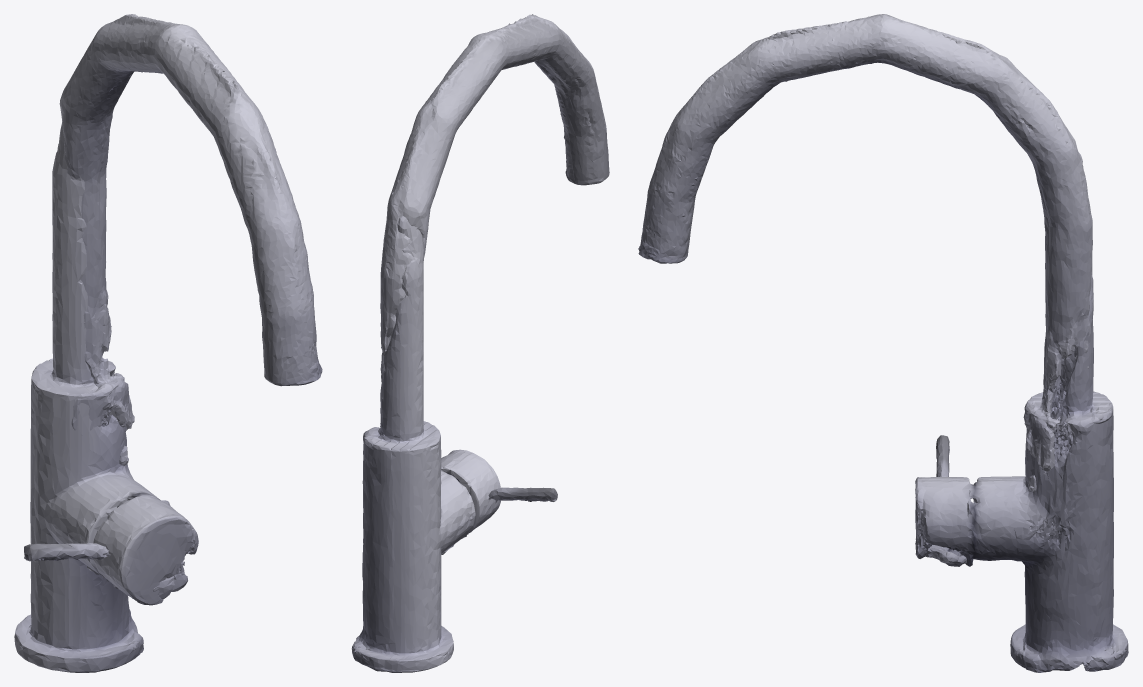
3 renders of one model, left to right at view 1: azimuth 30°, elevation 25°; view 2: azimuth 150°, elevation 25°; view 3: azimuth 270°, elevation 25°, orthographic. The views are drawn at different scales.
Parts seen in each view (by area): view 1: part_0, part_1, part_2; view 2: part_0, part_1, part_2; view 3: part_1, part_0, part_2.
Part boxes in pixels (x1=…): part_0: x1=14, y1=122, x2=198, y2=672; part_1: x1=57, y1=14, x2=322, y2=465; part_2: x1=24, y1=543, x2=174, y2=604; part_0: x1=351, y1=215, x2=500, y2=672; part_1: x1=380, y1=14, x2=609, y2=427; part_2: x1=441, y1=487, x2=557, y2=554; part_1: x1=638, y1=14, x2=1092, y2=492; part_0: x1=915, y1=153, x2=1128, y2=672; part_2: x1=915, y1=435, x2=966, y2=566.
Size of the model in its own units: 0.4578 by 1.76 by 1.23.
